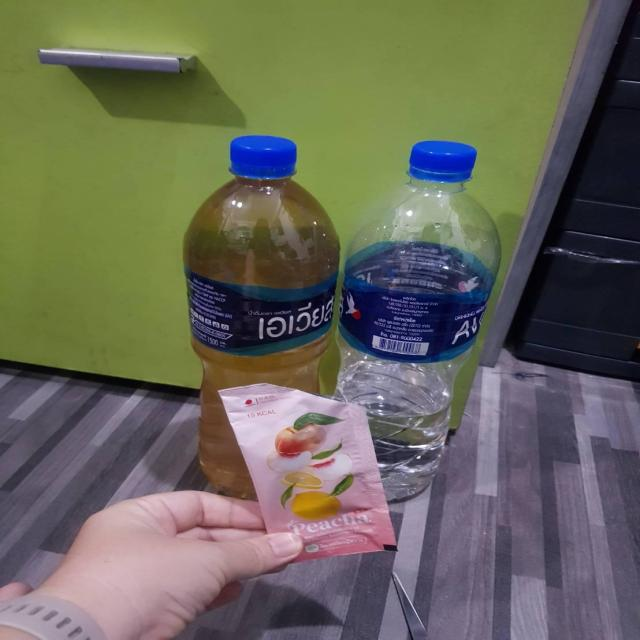bottle: (304, 130, 512, 510), (174, 126, 356, 528)
